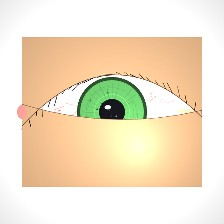pterygium_lesion: (171, 100, 200, 124)
